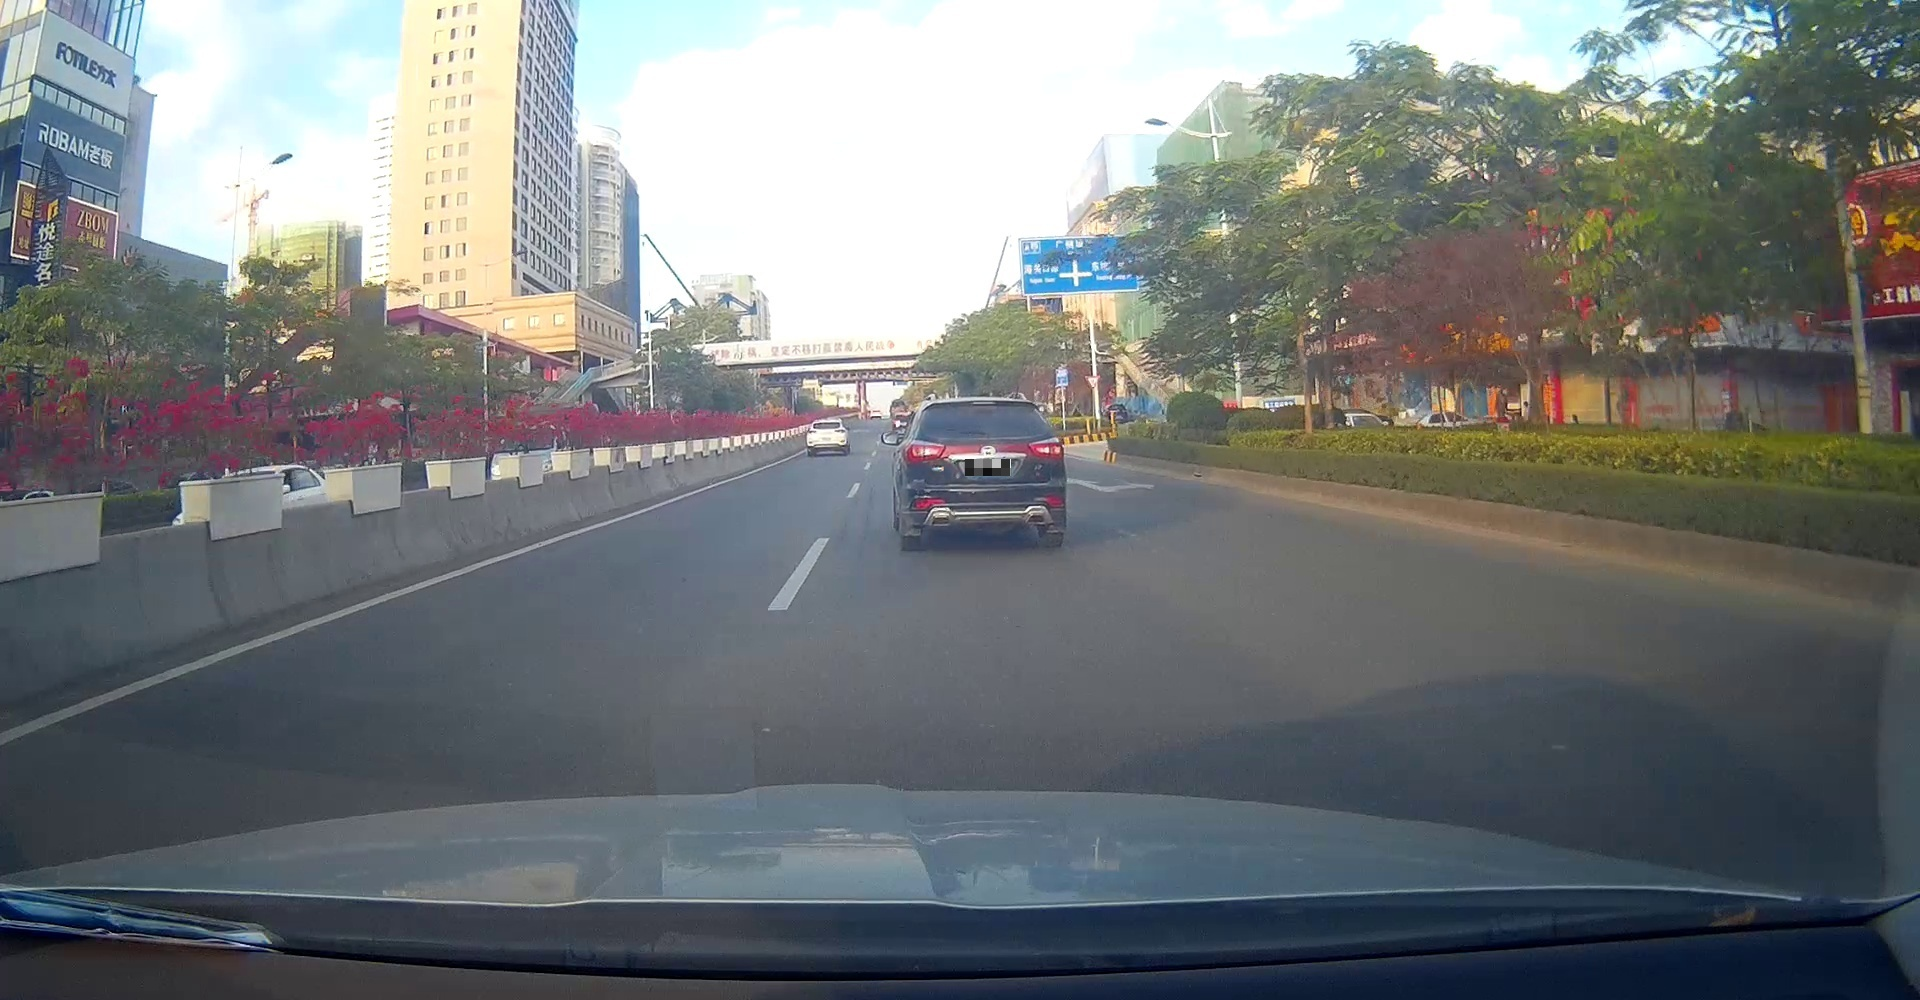L_light: (904, 442, 946, 463), (808, 430, 817, 433)
R_light: (1027, 437, 1064, 459), (834, 429, 844, 431)
T_light: (970, 398, 998, 406), (823, 421, 830, 423)
day-no: (903, 396, 1064, 549), (806, 418, 846, 456)
plate_1: (965, 459, 1011, 476)
